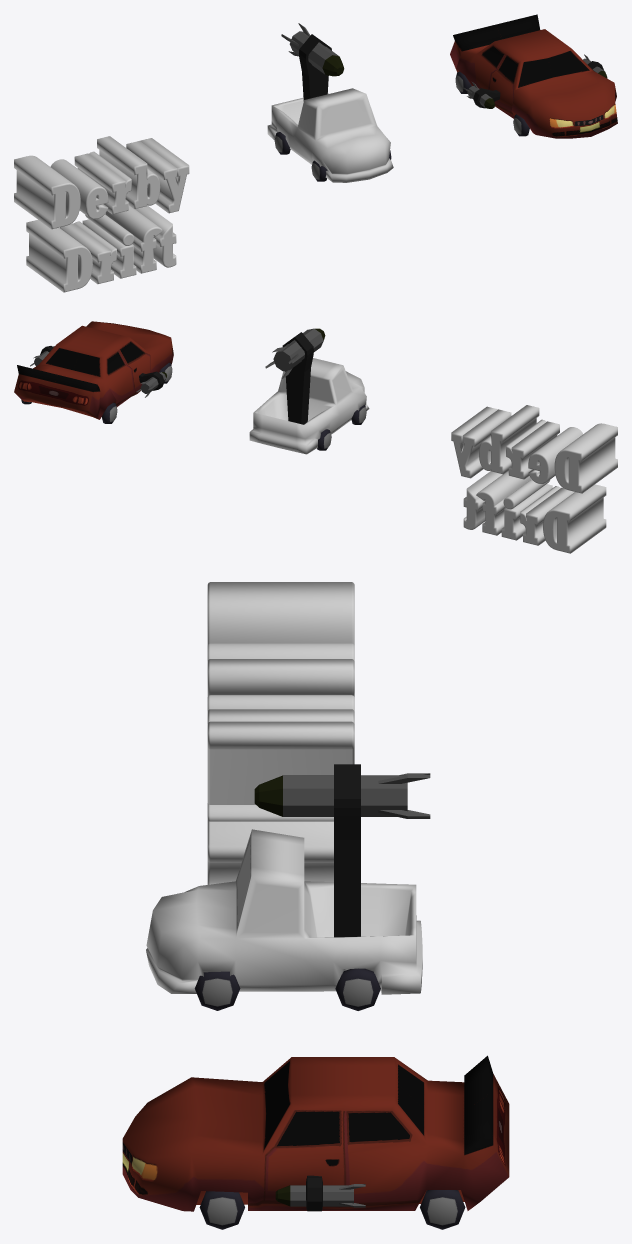
The model's file is wheels2.obj.
3 views of the same model, one above another, from view 1: azimuth 30°, elevation 25°; view 2: azimuth 150°, elevation 25°; view 3: azimuth 270°, elevation 25° (orthographic). The views are drawn at different scales.
Visible parts, largest first — view 1: Text, Cube_Cube.002, Cube.002_Cube.006, Cylinder.002, Cube.003_Cube.007, Plane.002_Plane.001, Plane.001_Plane.010; view 2: Text, Cube_Cube.002, Cube.002_Cube.006, Cube.003_Cube.007, Cylinder.002, Plane.002_Plane.001, Plane.001_Plane.010; view 3: Cube_Cube.002, Text, Cube.002_Cube.006, Cylinder.002, Cube.003_Cube.007, Plane.002_Plane.001, Plane.001_Plane.010, Cylinder.003.
Boxes of the visible parts, x1,y1,x2,y2 form: Text: [14, 136, 189, 292]; Cube_Cube.002: [450, 14, 617, 138]; Cube.002_Cube.006: [267, 88, 393, 182]; Cylinder.002: [281, 23, 344, 76]; Cube.003_Cube.007: [299, 34, 331, 100]; Plane.002_Plane.001: [274, 132, 391, 181]; Plane.001_Plane.010: [455, 71, 529, 136]; Text: [451, 405, 617, 553]; Cube_Cube.002: [14, 321, 173, 419]; Cube.002_Cube.006: [249, 358, 369, 454]; Cube.003_Cube.007: [282, 332, 313, 424]; Cylinder.002: [265, 328, 325, 378]; Plane.002_Plane.001: [317, 405, 366, 450]; Plane.001_Plane.010: [21, 362, 172, 423]; Cube_Cube.002: [122, 1055, 509, 1211]; Text: [207, 582, 354, 884]; Cube.002_Cube.006: [146, 829, 422, 994]; Cylinder.002: [254, 773, 430, 818]; Cube.003_Cube.007: [334, 764, 360, 937]; Plane.002_Plane.001: [194, 968, 380, 1010]; Plane.001_Plane.010: [199, 1190, 465, 1229]; Cylinder.003: [275, 1184, 365, 1207].
Size of the model in its own units: 28.01 by 7.41 by 8.52.
